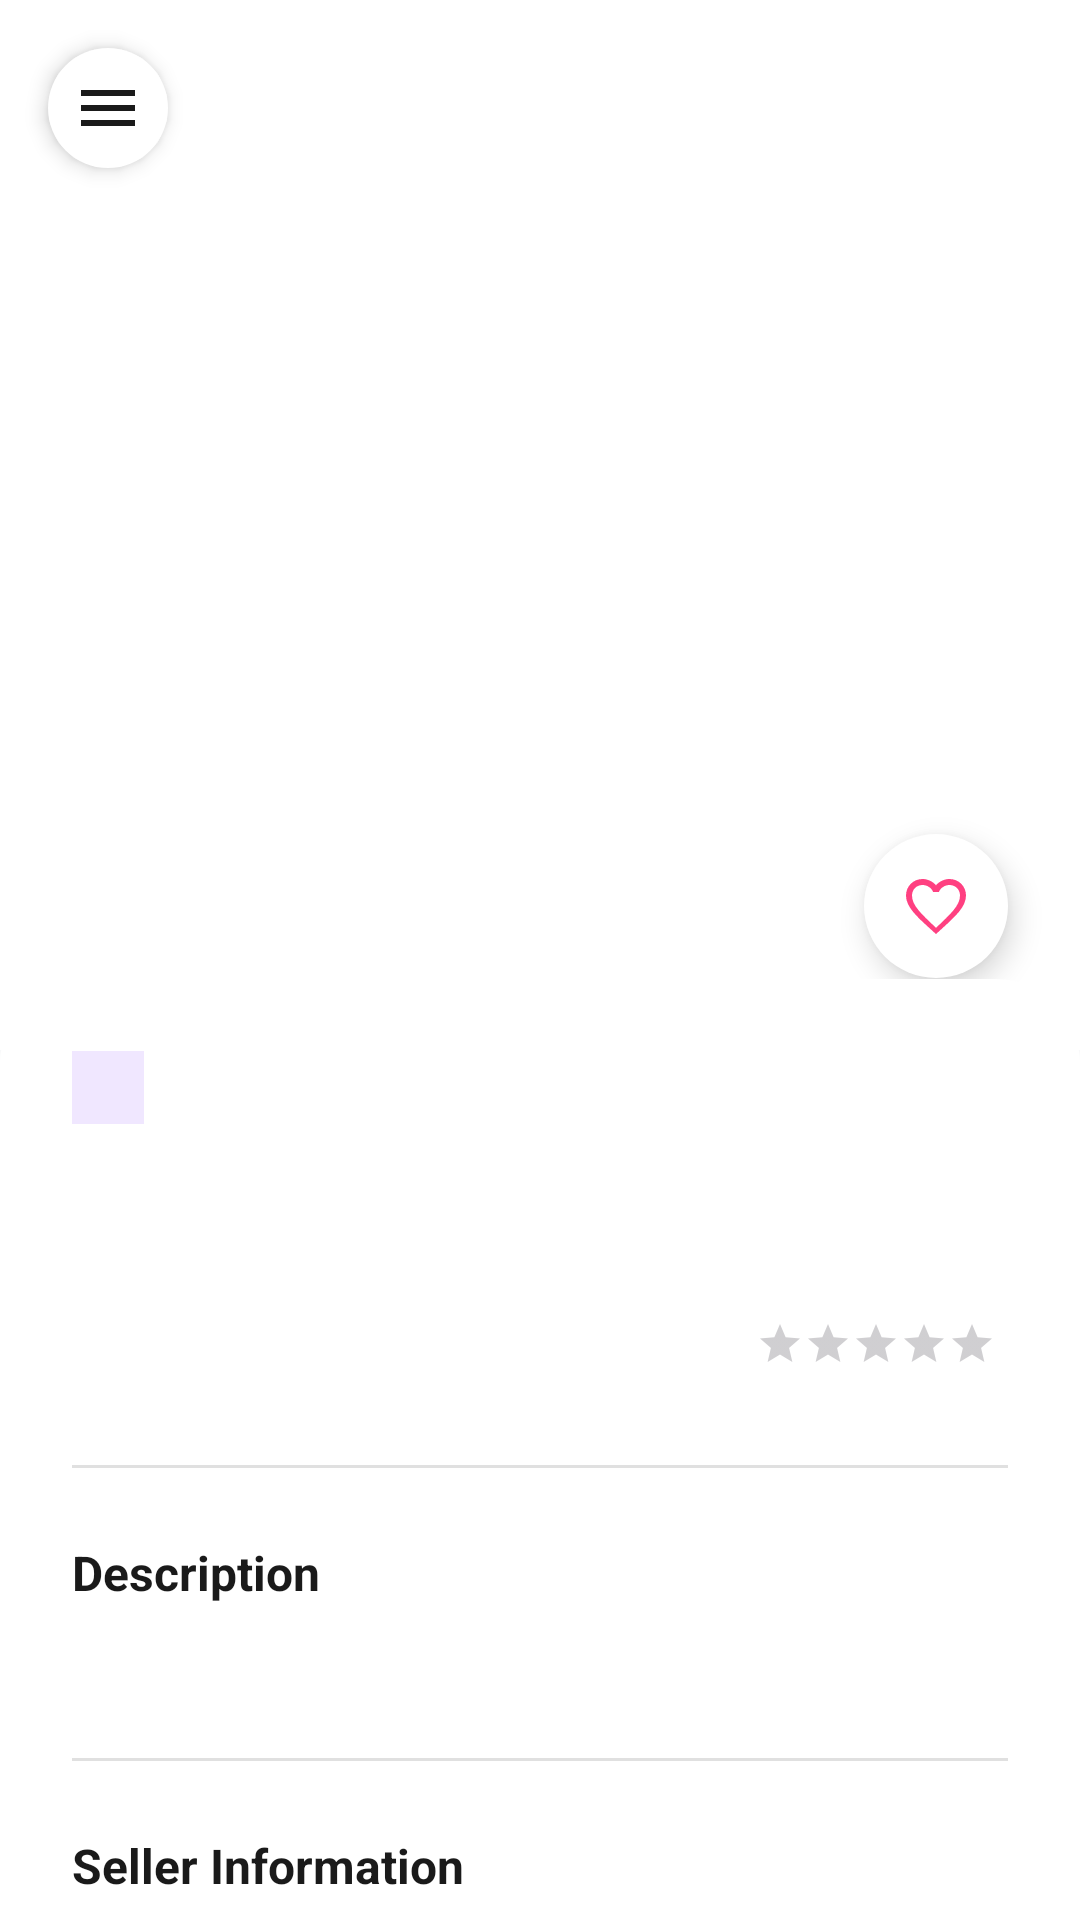

Icon click points for this 1080w x 1920h phone screenshot, format point (x, y):
menu: point (91, 108)
